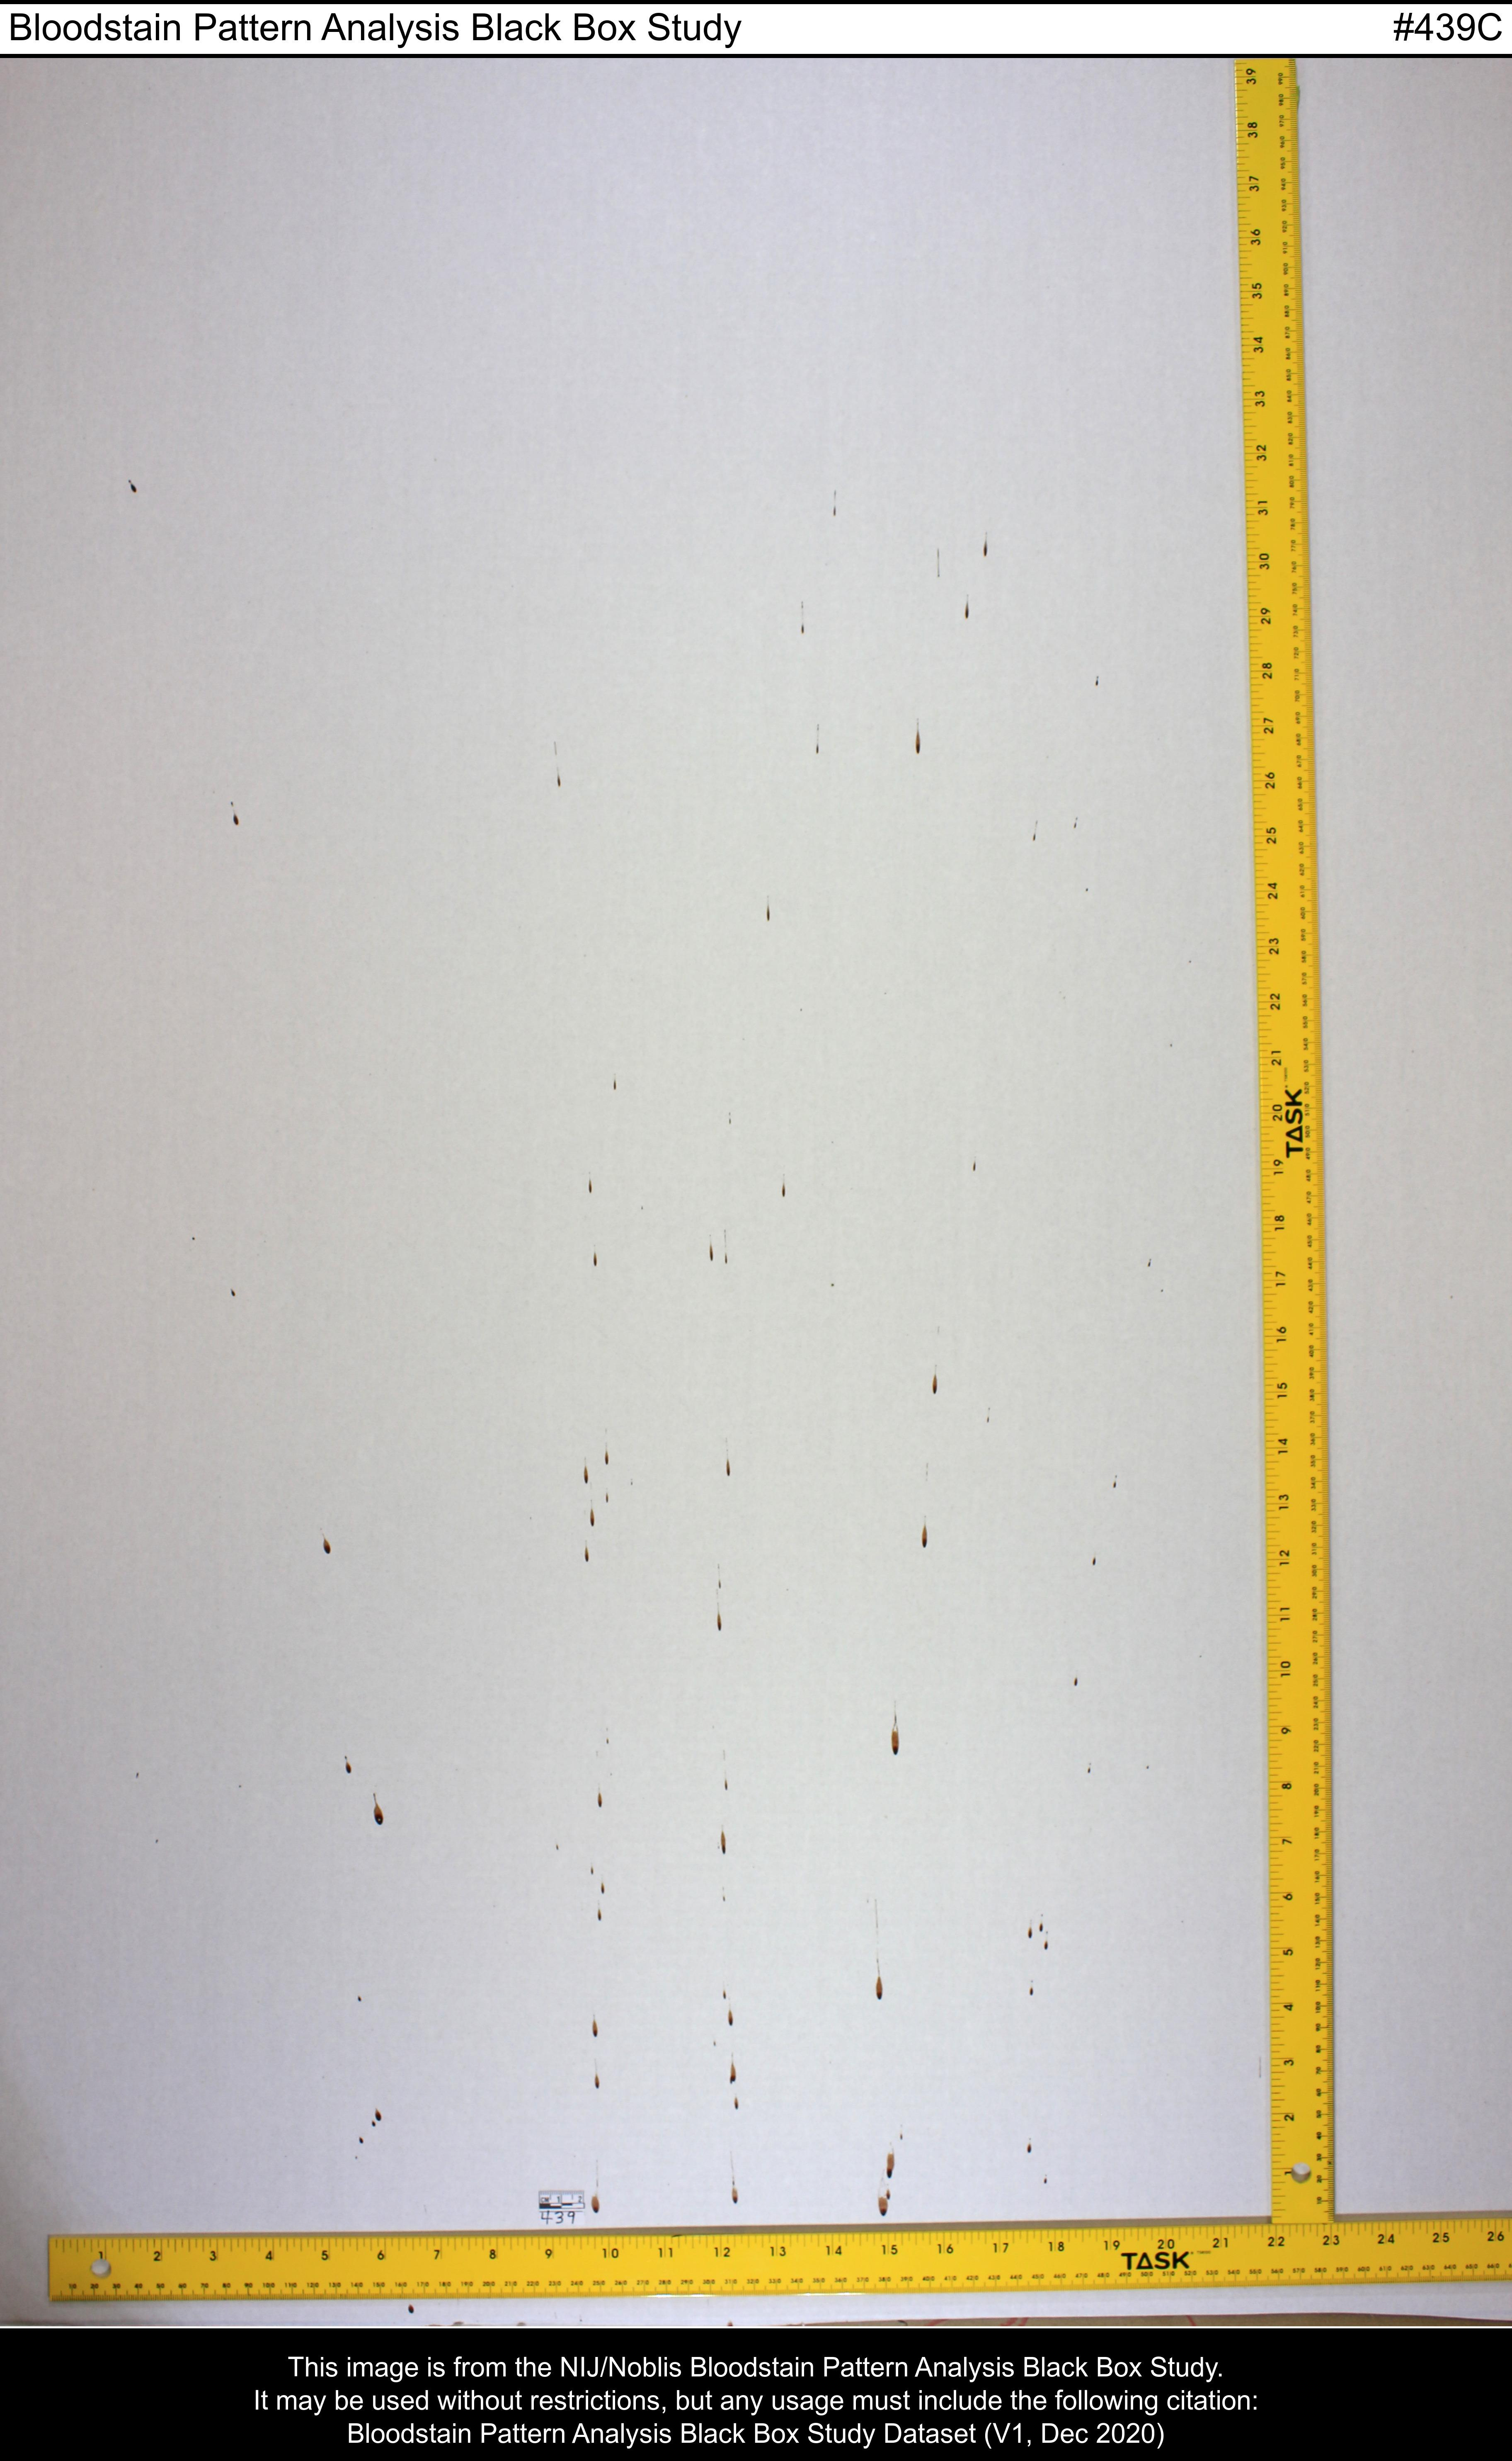Impact: (4, 62, 1276, 2213)
